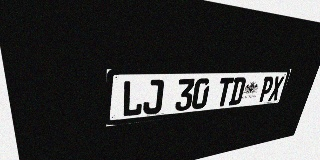0: (191, 78, 211, 110)
3: (174, 79, 195, 111)
D: (228, 77, 247, 105)
J: (142, 79, 164, 115)
L: (121, 80, 144, 117)
P: (258, 76, 275, 102)
T: (215, 77, 234, 107)
X: (268, 76, 285, 101)
